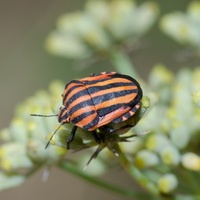insect: (58, 72, 142, 147)
